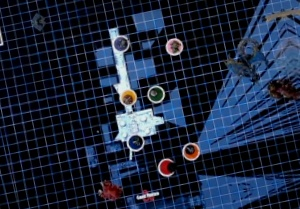blue: (122, 131, 148, 154)
green: (142, 80, 170, 107)
orange: (178, 139, 202, 163)
pink: (161, 34, 189, 58)
red: (153, 154, 179, 178)
violet: (110, 32, 133, 53)
yellow: (118, 87, 139, 108)
